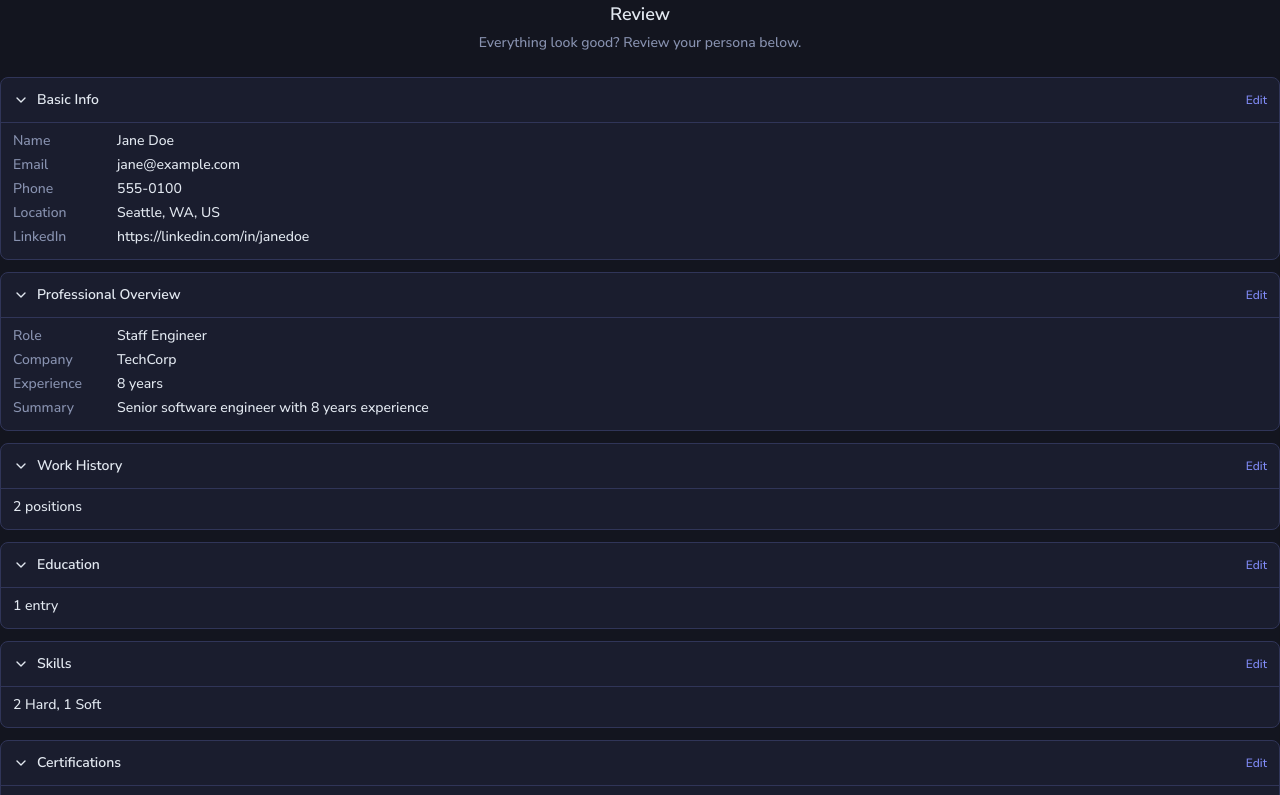
Scenario: ReviewStep › collapsible behavior › clicking a section header toggles its content
Click the button with test id "review-header-basic-info". click: click(68, 100)
box: [1,78,1279,122]
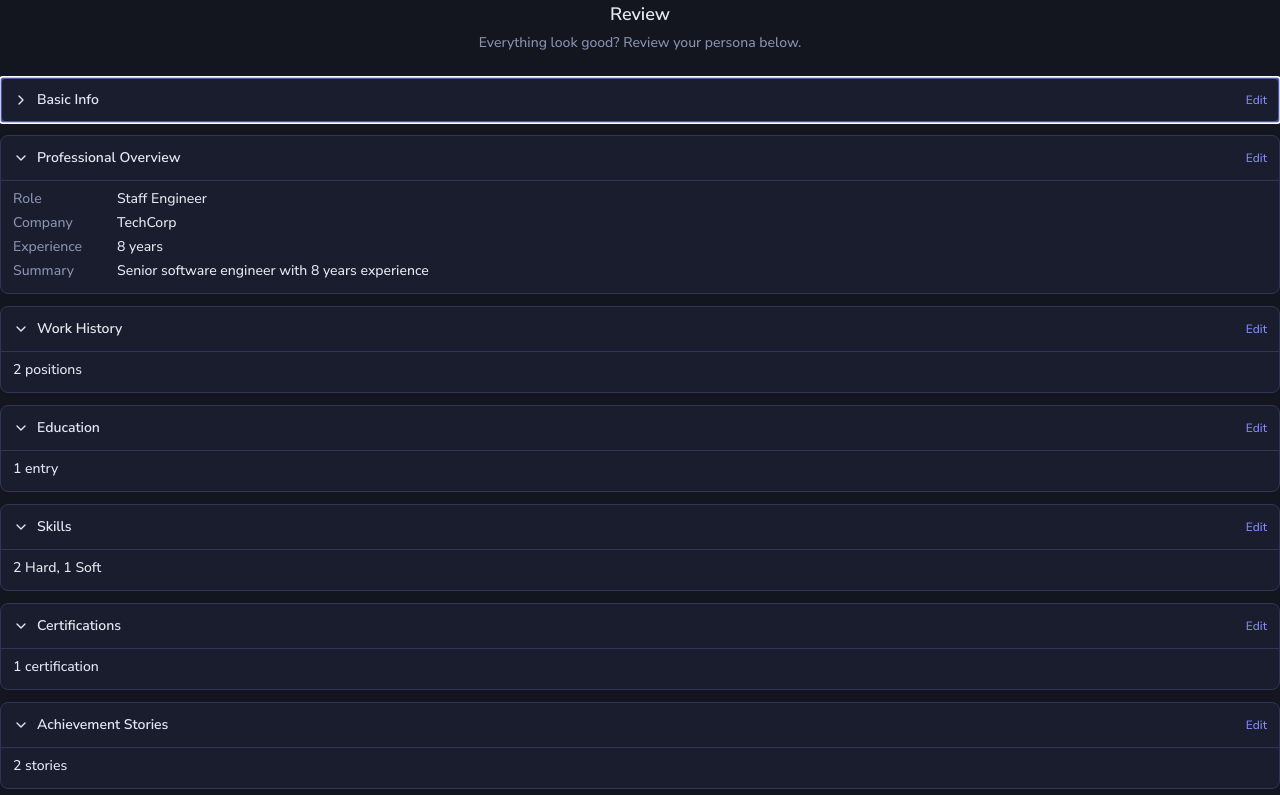
Expected: the text "Jane Doe" is gone
// Click again to expand
Click the button with test id "review-header-basic-info". click: click(68, 100)
box: [1,78,1279,122]
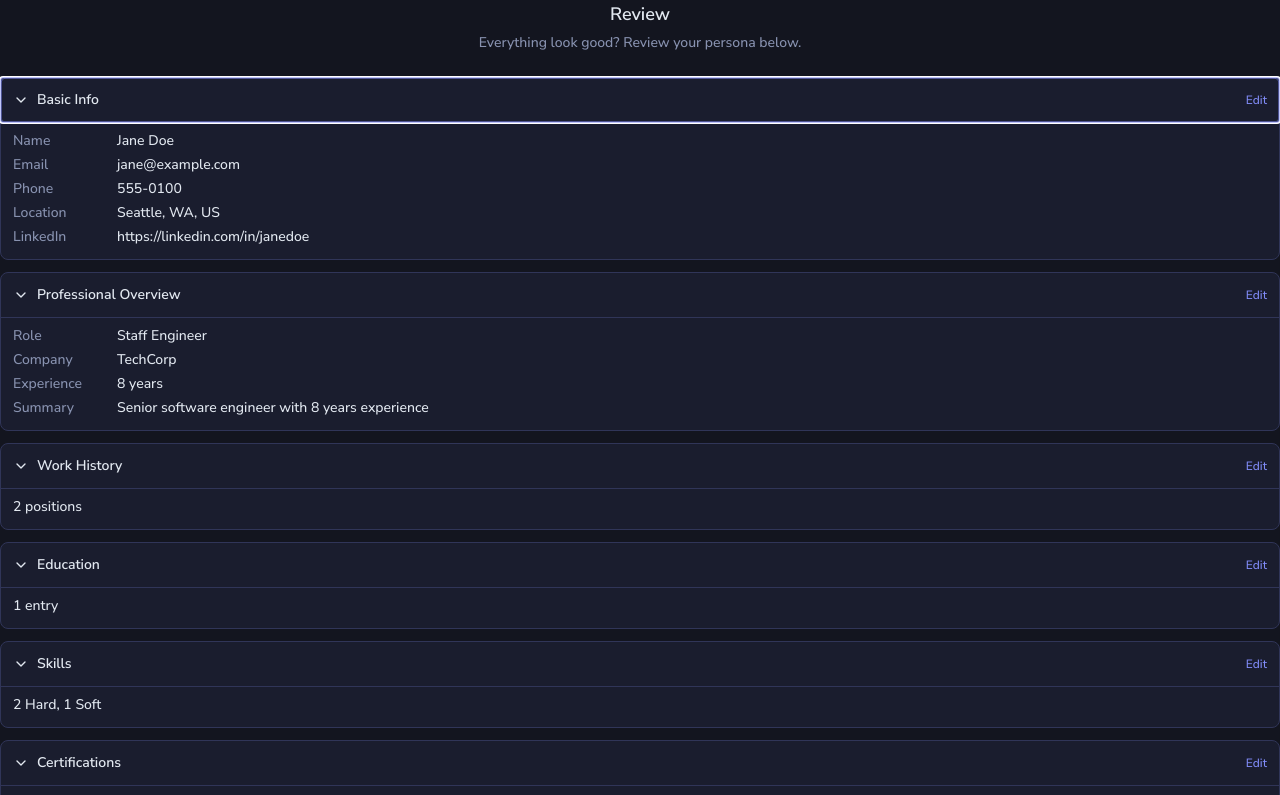
Expected: the text "Jane Doe" is shown, [117,131,174,151]
